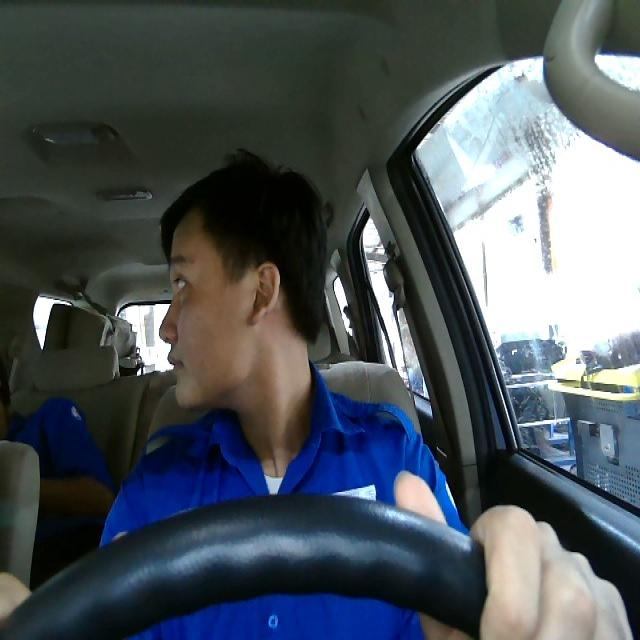seeing_left: (155, 204, 283, 408)
